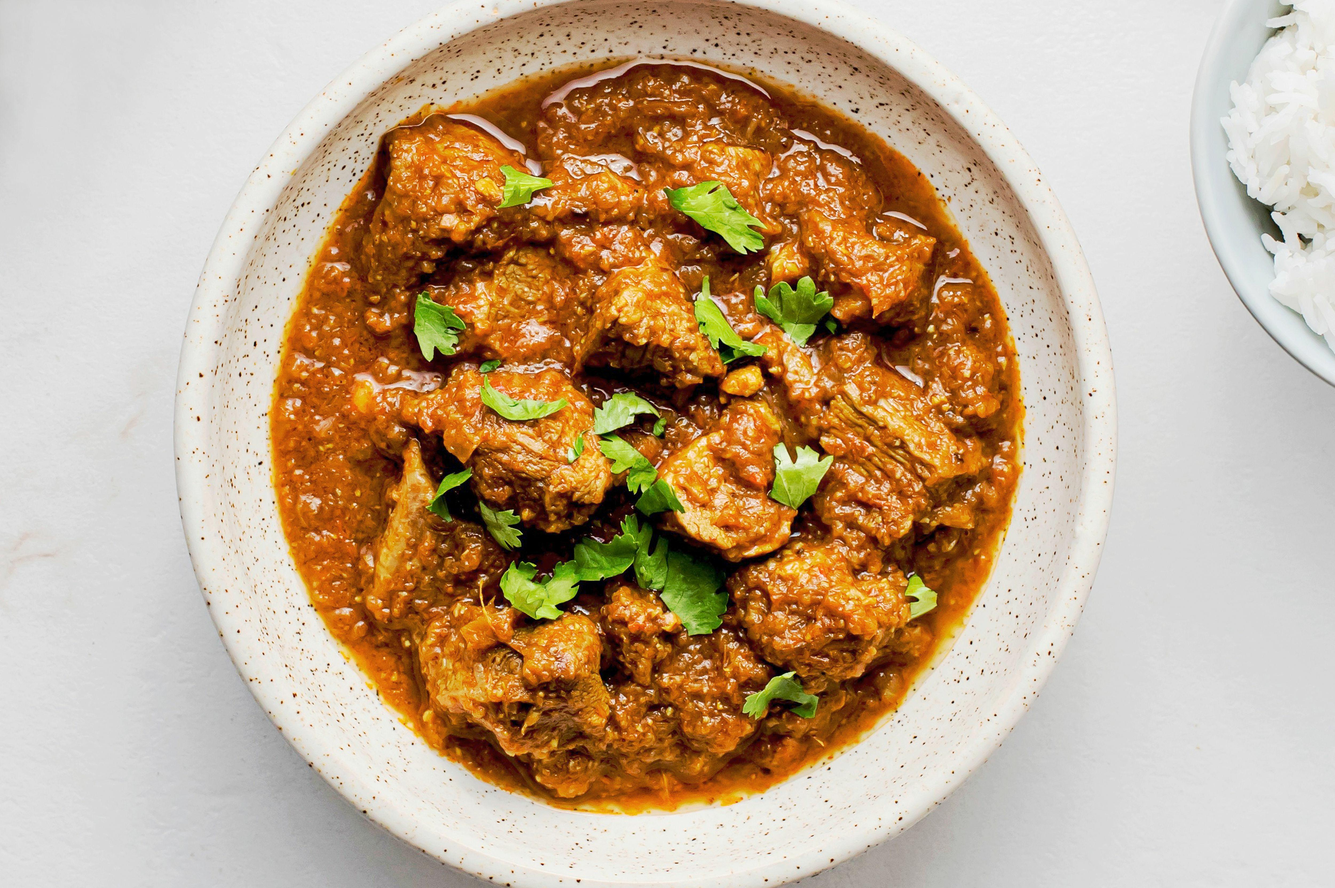MuttonCurry: (271, 55, 1021, 808)
